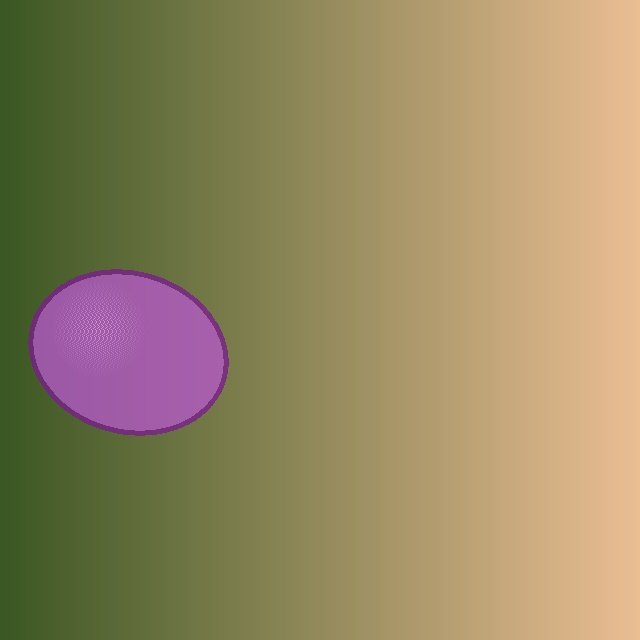lens: (30, 272, 226, 432)
